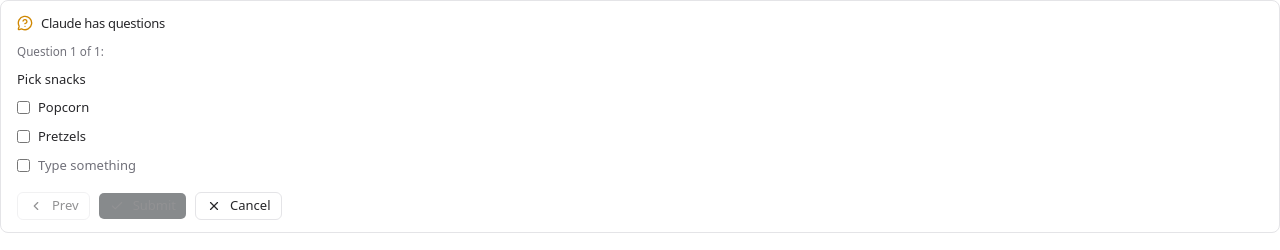
Scenario: ApprovalCard — AskUserQuestion form (parsed from content_preview) › gates Submit until a multi-select question has at least one selection
expect the button "Submit" is disabled: met, box [98,192,187,220]
Click the checkbox labelled "Popcorn".
click(24, 108)  # box [17,101,30,114]
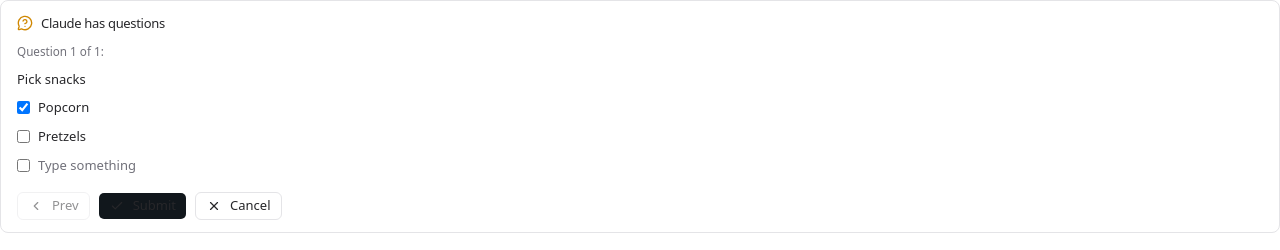
expect the button "Submit" is enabled: met, box [98,192,187,220]
Click the checkbox labelled "Popcorn".
click(24, 108)  # box [17,101,30,114]
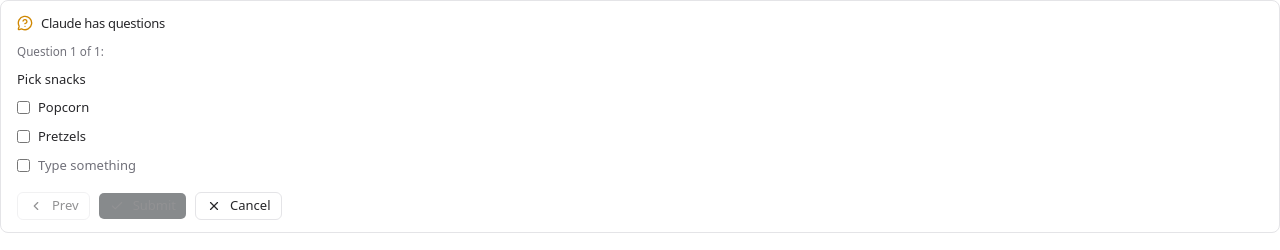
expect the button "Submit" is disabled: met, box [98,192,187,220]
